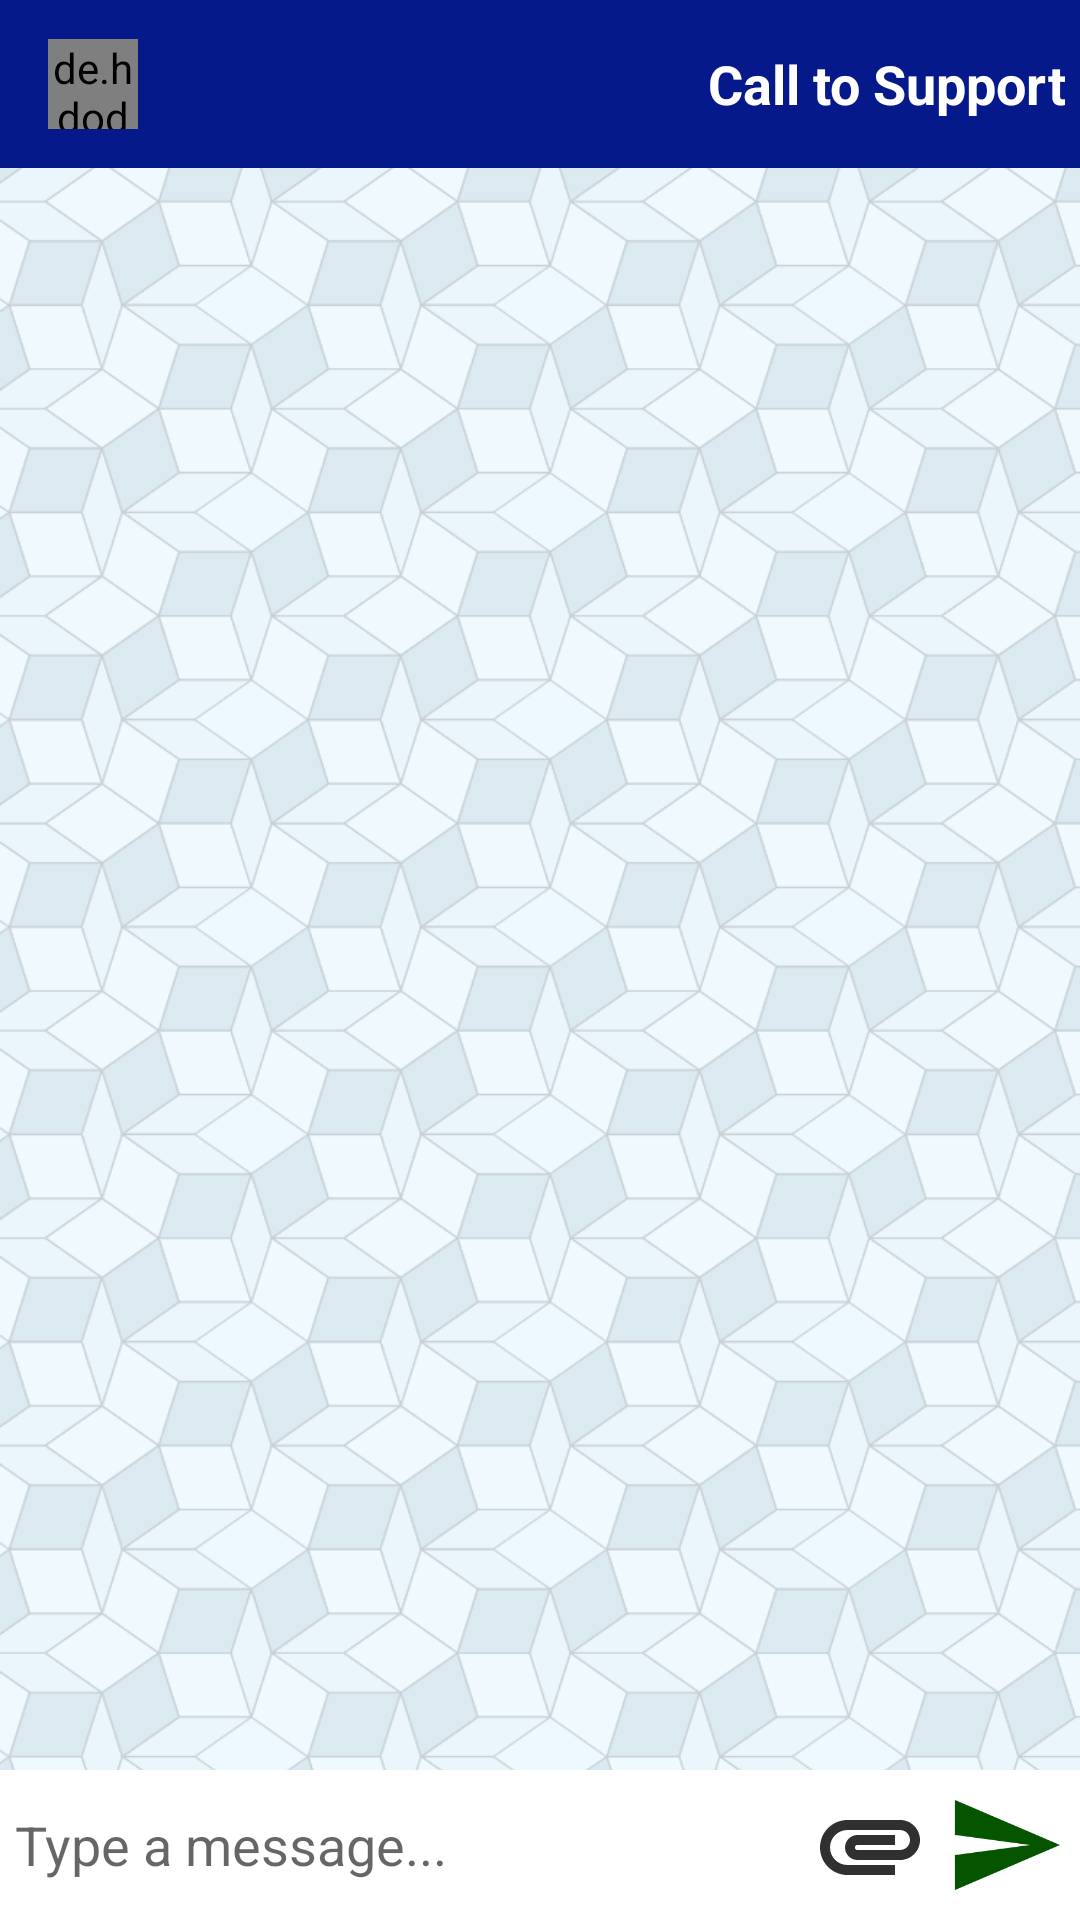

Named icons in this screenshot (1080*1920) and their bounding boxes, (x1, y1, x2, y2):
attachment: (820, 1820, 920, 1875)
send: (954, 1800, 1060, 1890)
